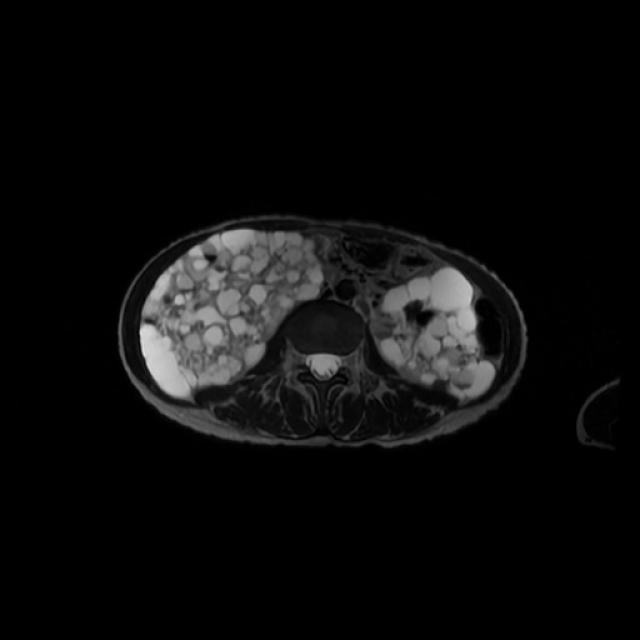sag: (137, 227, 324, 403)
sol: (370, 267, 497, 405)
